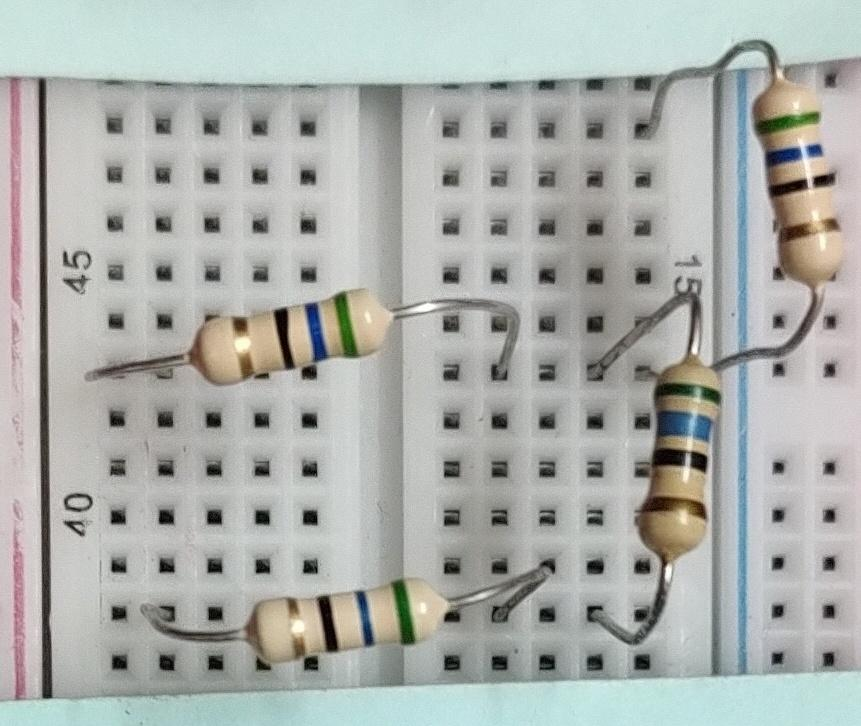resistor: (742, 70, 855, 291), (186, 280, 401, 392), (240, 574, 457, 680), (635, 346, 723, 575)
